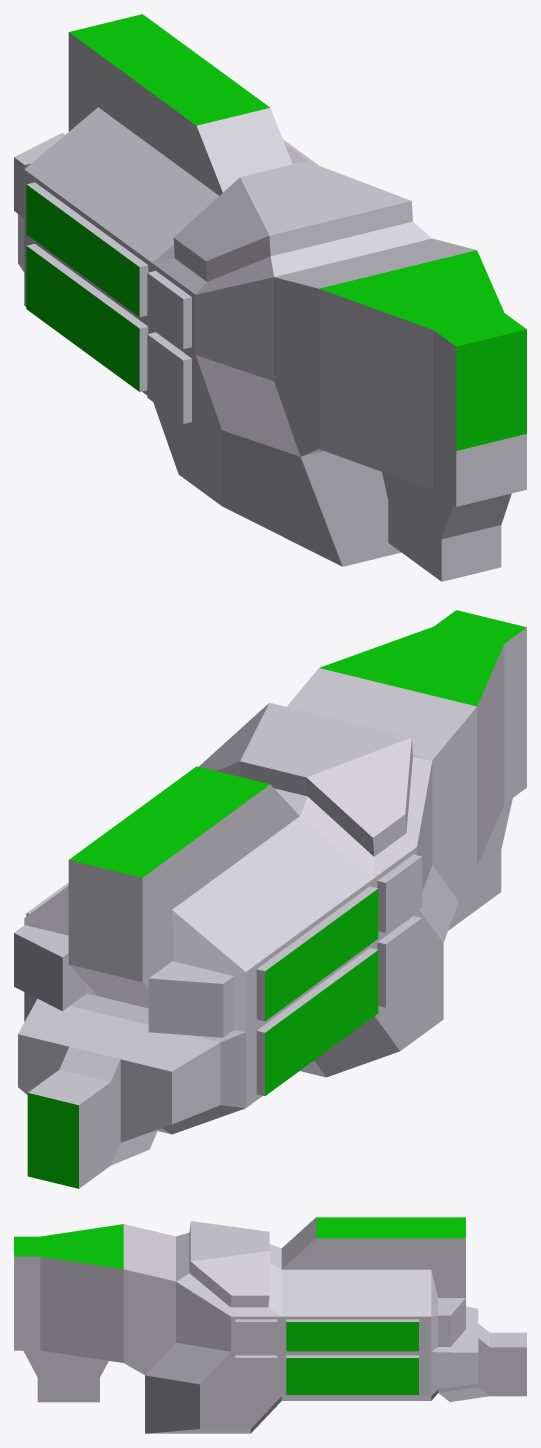
File: hull. compact.fbx
3 views of the same model, one above another, from view 1: azimuth 30°, elevation 25°; view 2: azimuth 150°, elevation 25°; view 3: azimuth 270°, elevation 25° (orthographic). The views are drawn at different scales.
Parts seen in each view (by area): view 1: hull. compact; view 2: hull. compact; view 3: hull. compact.
Boxes of the visible parts, bbox=[...] form: hull. compact: bbox=[14, 14, 526, 581]; hull. compact: bbox=[14, 610, 526, 1188]; hull. compact: bbox=[14, 1217, 526, 1433].
Size of the model in its own units: 1.02 by 1.37 by 3.26.
